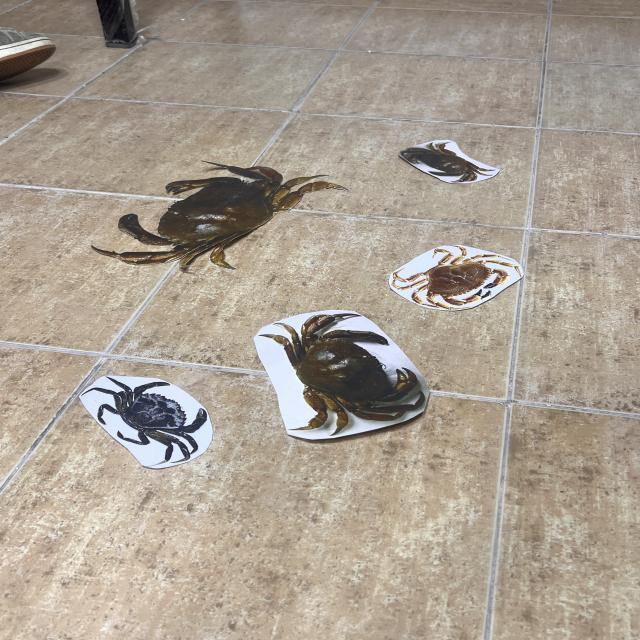European_Green_Crab: (71, 352, 231, 478)
